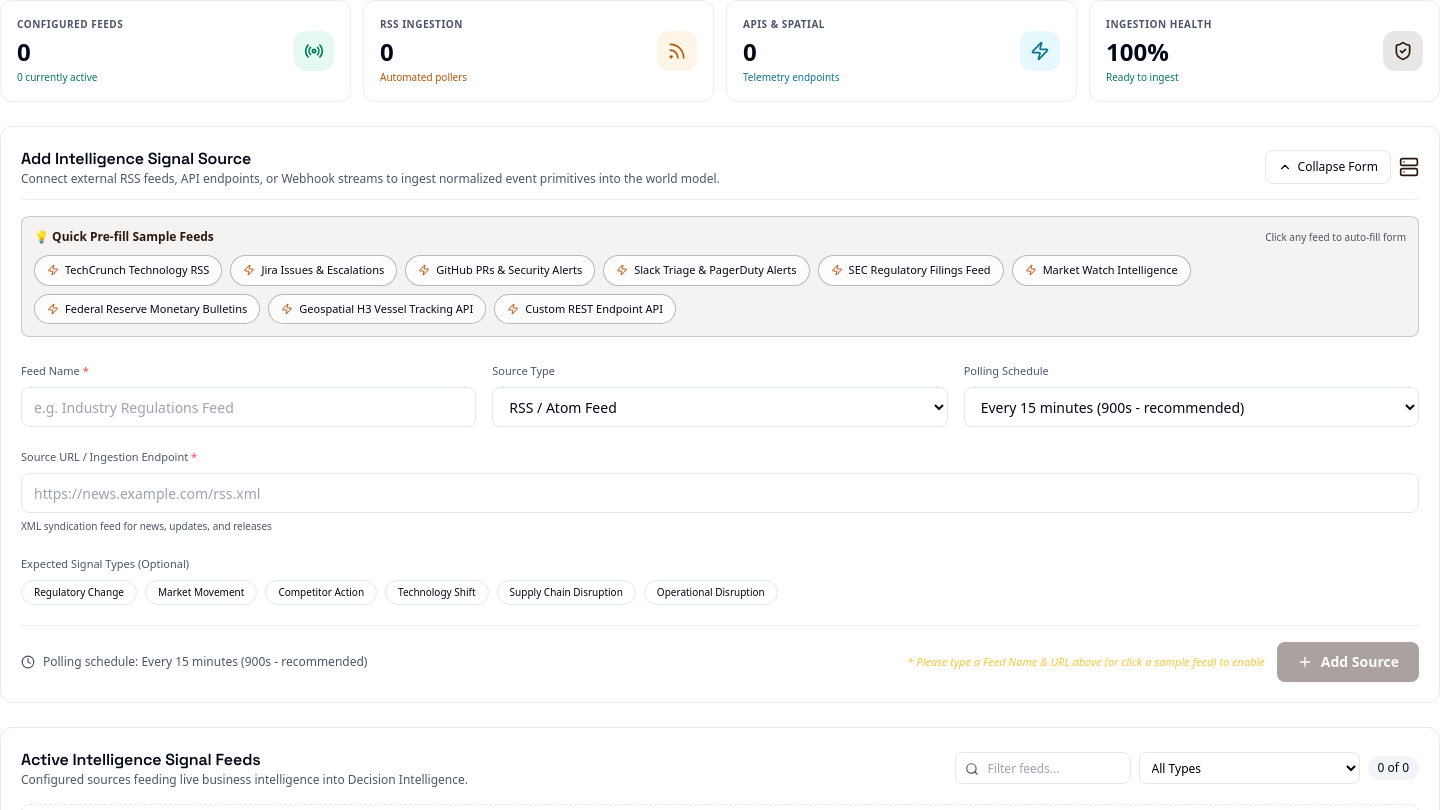
Test: SourcesView › allows collapsing and expanding the Add Source form
Click the button "Collapse Form" at coordinates (1328, 167), box [1264,150,1391,184]
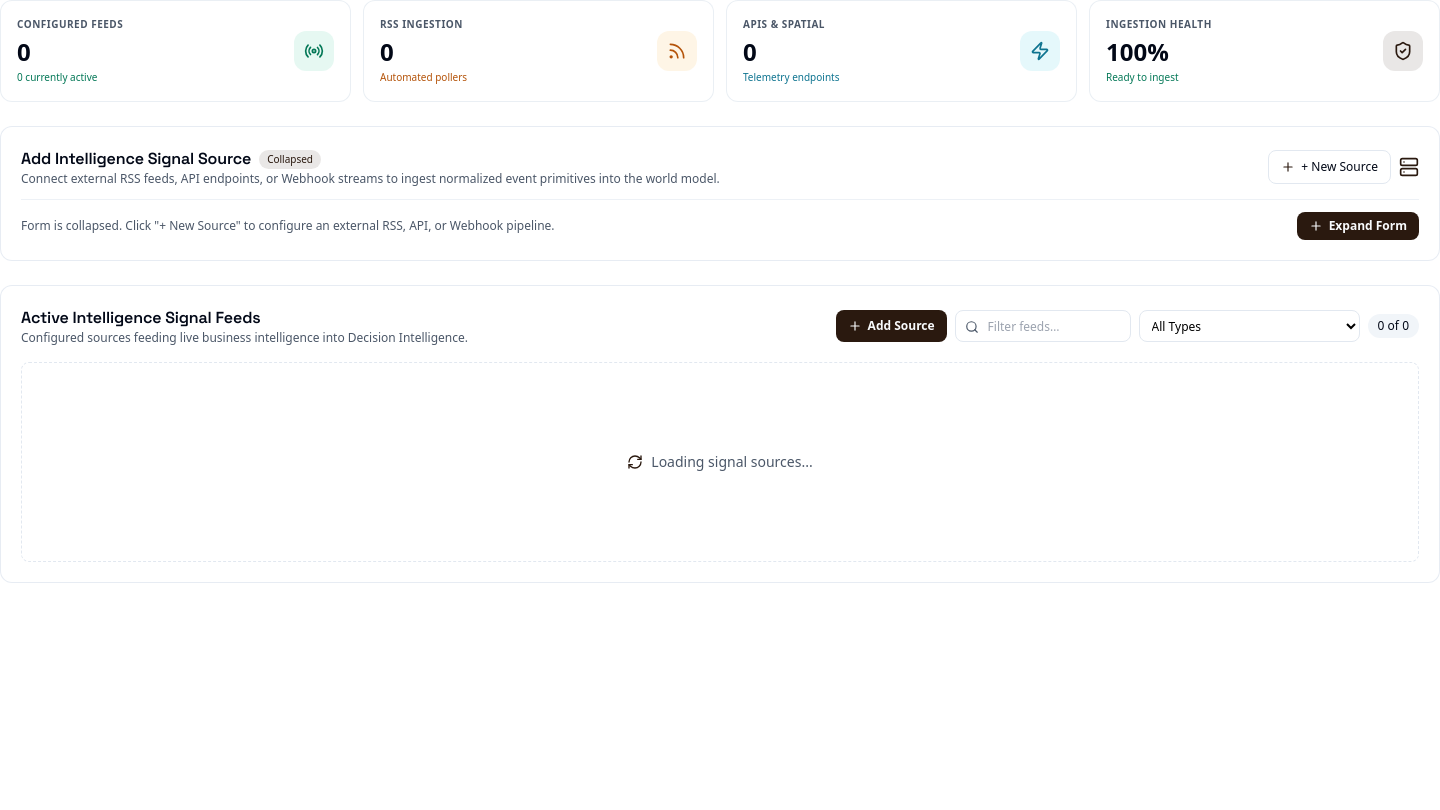
expect the field with placeholder "e.g. Industry Regulations Feed" is not shown: met
expect the text "Form is collapsed" is shown: met, box [21,217,555,234]
Expand form again
Click the button "Expand Form" at coordinates (1358, 226), box [1297,212,1419,240]
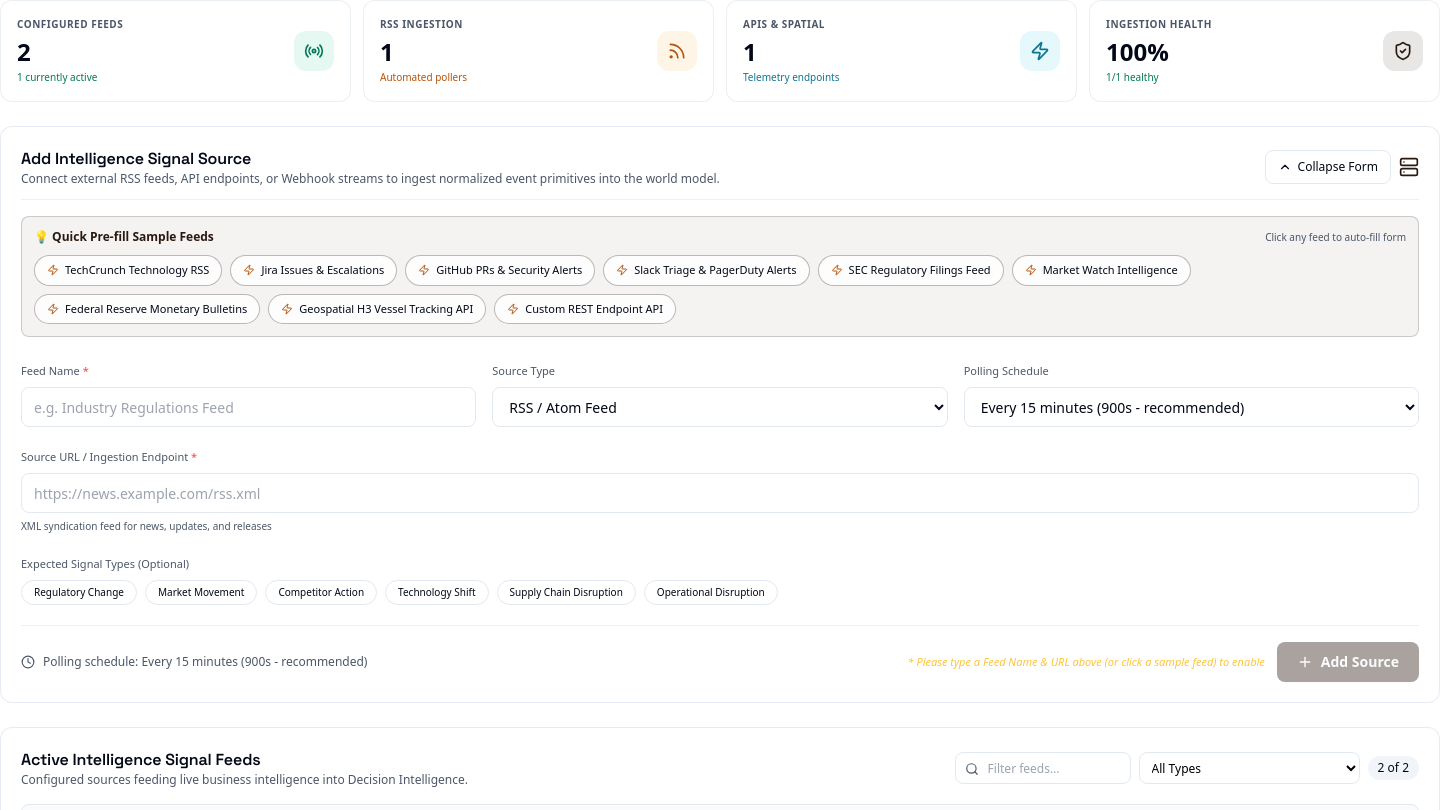
expect the field with placeholder "e.g. Industry Regulations Feed" is shown: met, box [21,387,476,427]
